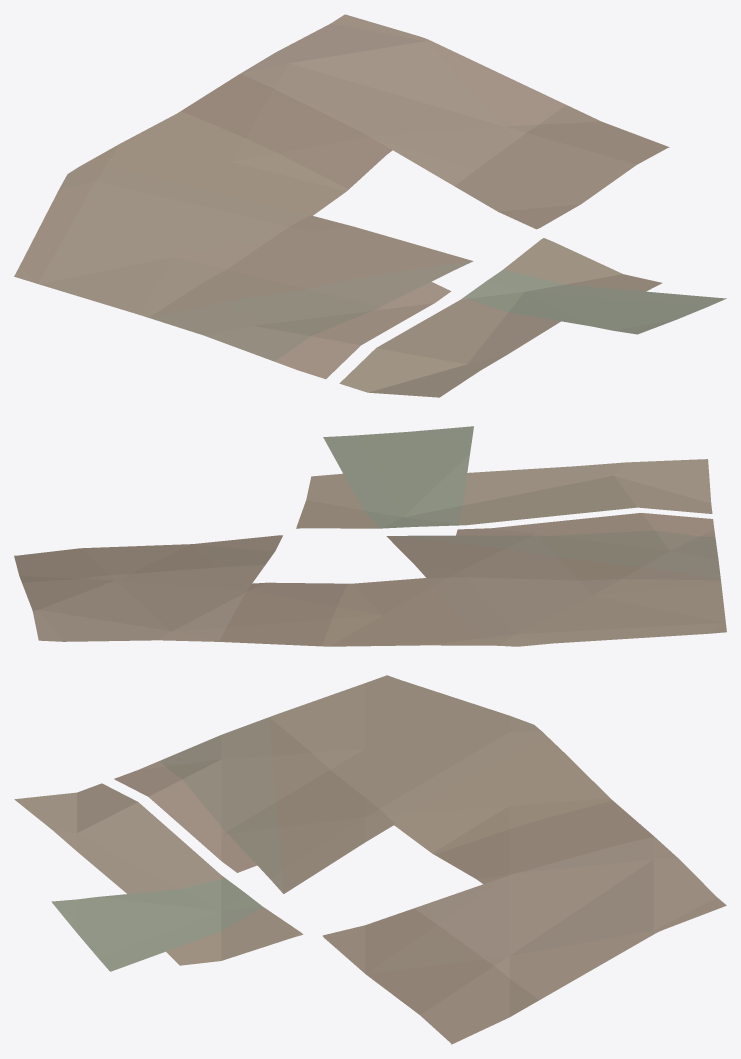
File: farm_-3_-1_soil.glb
3 views of the same model, one above another, from view 1: azimuth 30°, elevation 25°; view 2: azimuth 150°, elevation 25°; view 3: azimuth 270°, elevation 25° (orthographic). The views are drawn at different scales.
Visible parts, largest first — view 1: geometry_0; view 2: geometry_0; view 3: geometry_0.
Boxes of the visible parts, bbox=[...] form: geometry_0: bbox=[14, 14, 726, 397]; geometry_0: bbox=[14, 426, 726, 646]; geometry_0: bbox=[14, 675, 726, 1044].
Size of the model in its own units: 407 by 43.11 by 396.
